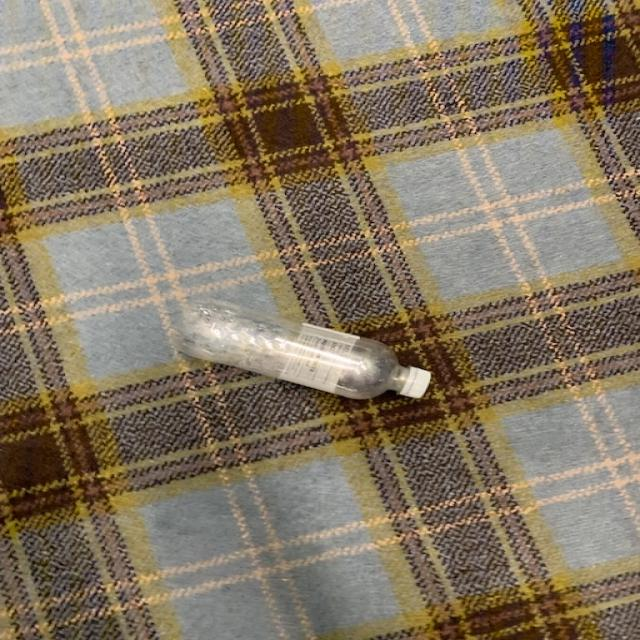Waste: (171, 299, 432, 400)
